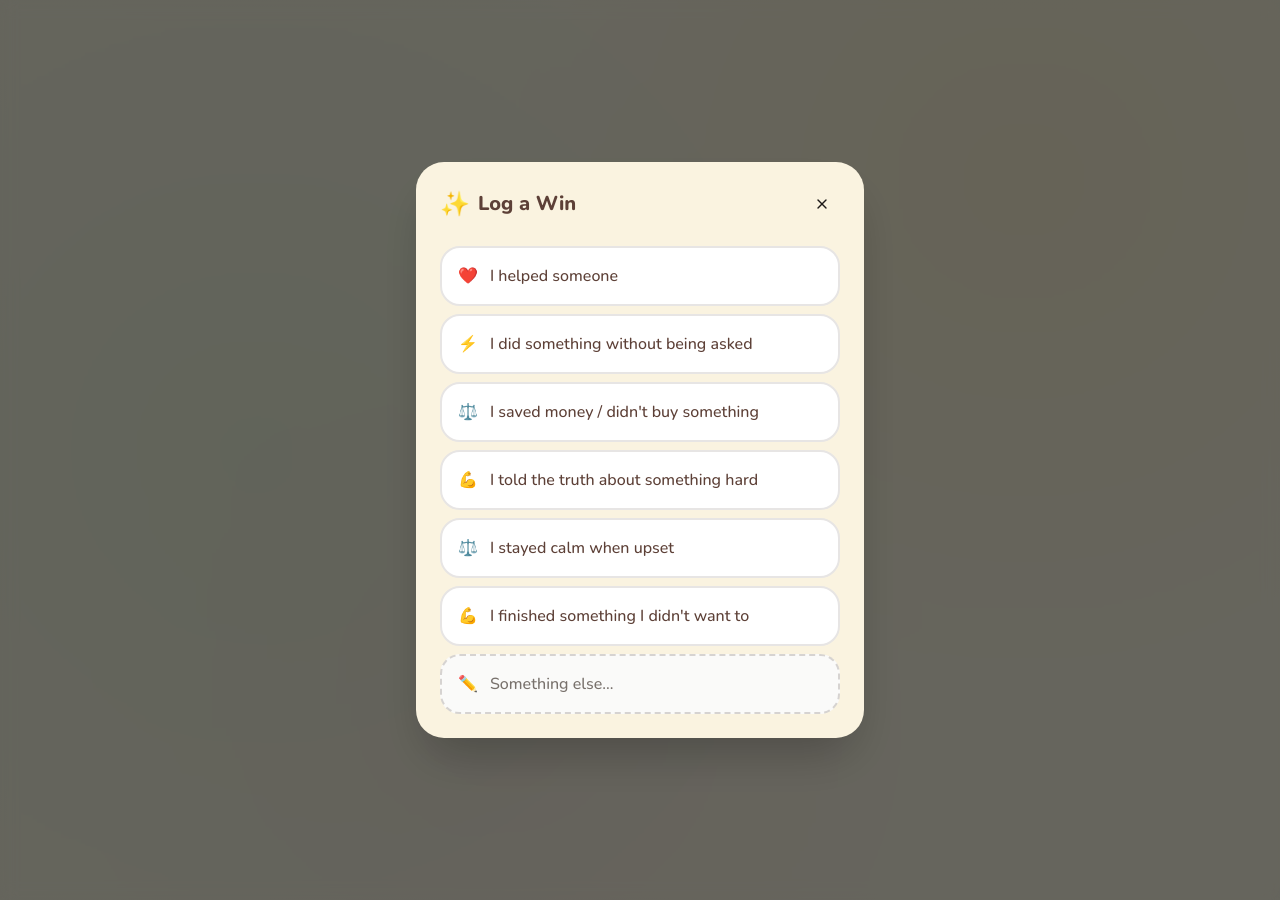
Test: SelfReportLog › Details Form › updates XP preview when wasHard checked
Click the text "I helped someone" at (554, 276), box [490,265,618,287]
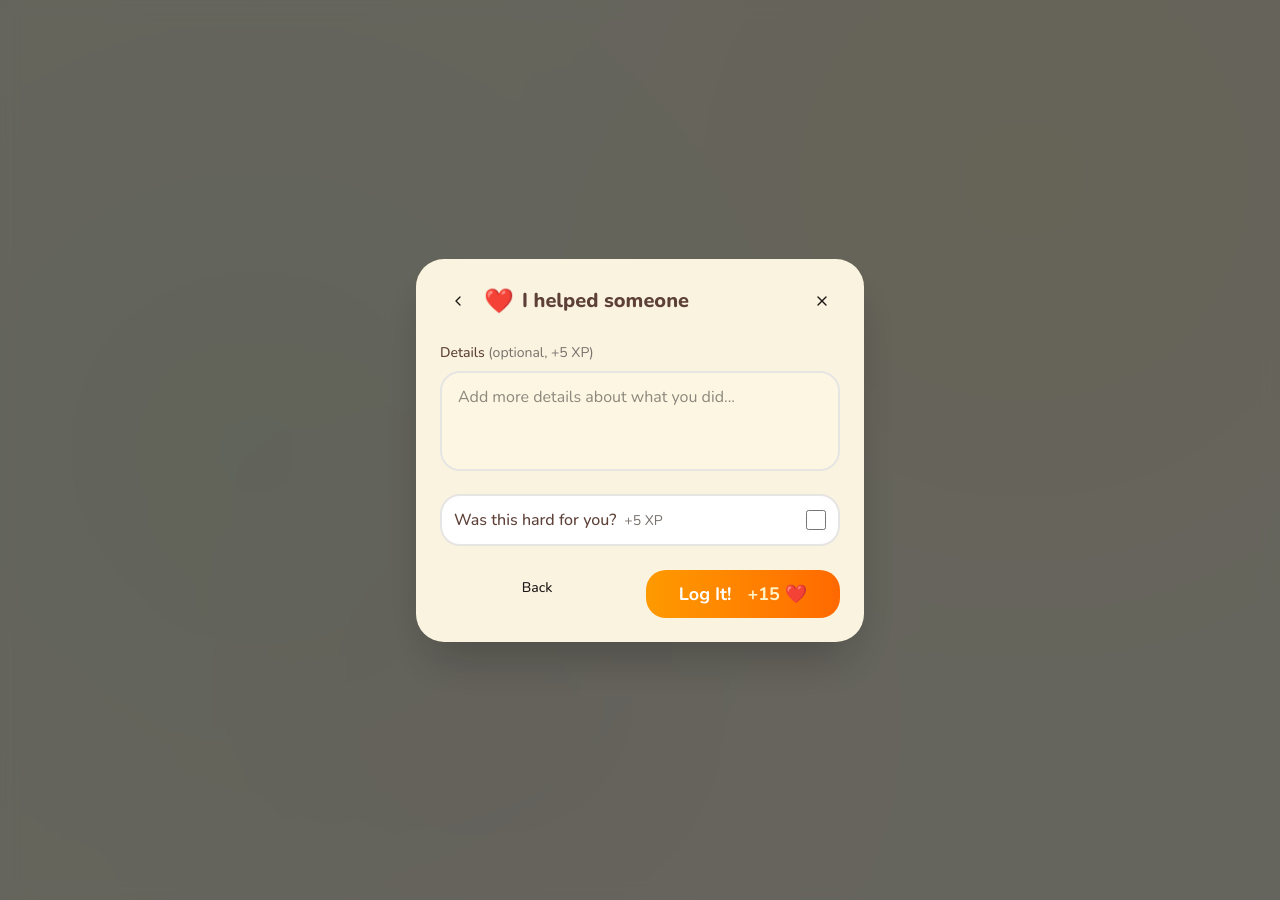
Click the checkbox labelled "Was this hard for you?+5 XP" at (816, 520), box [806,510,826,530]
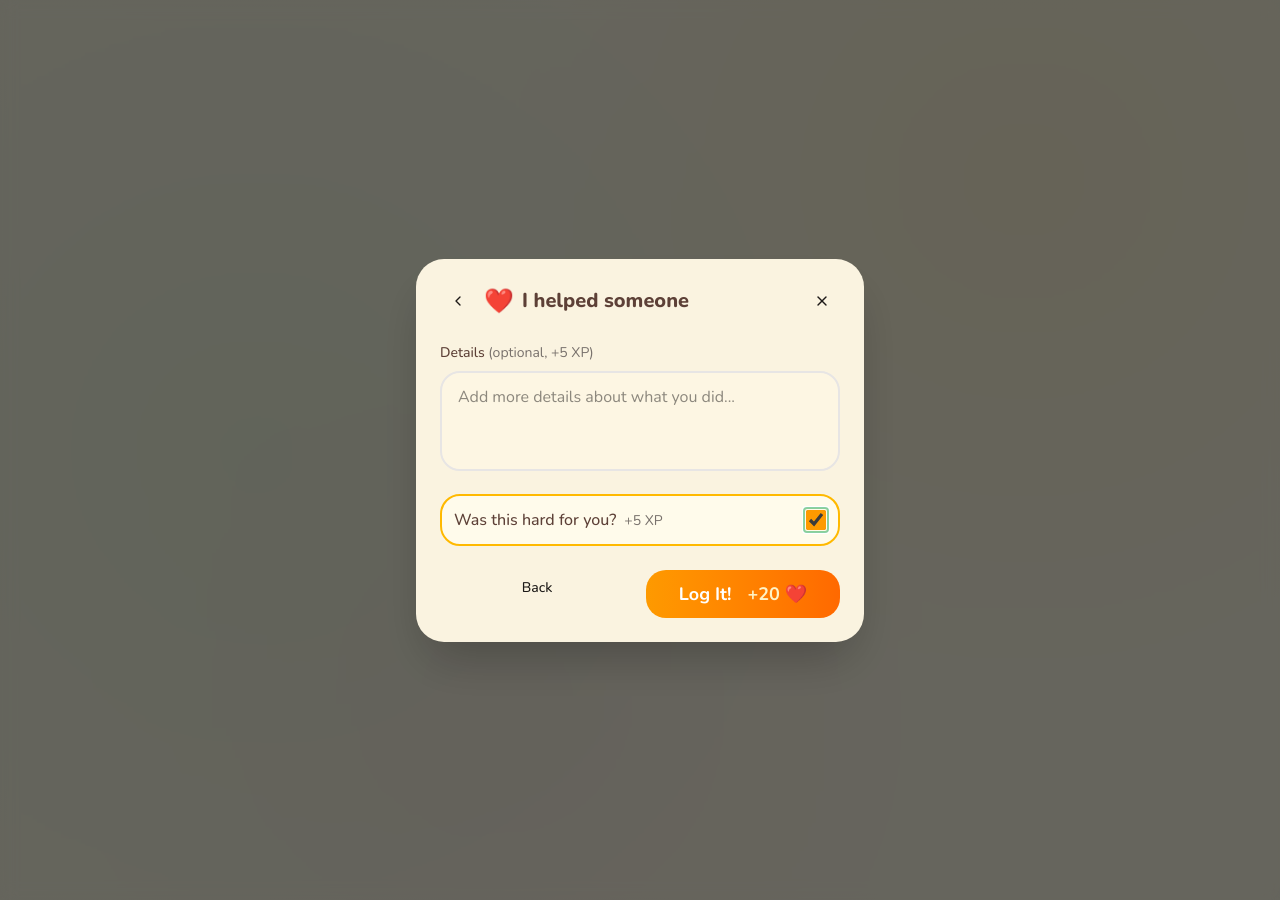
Result: the button "Log It! +20 ❤️" is shown at [646,570,840,618]
